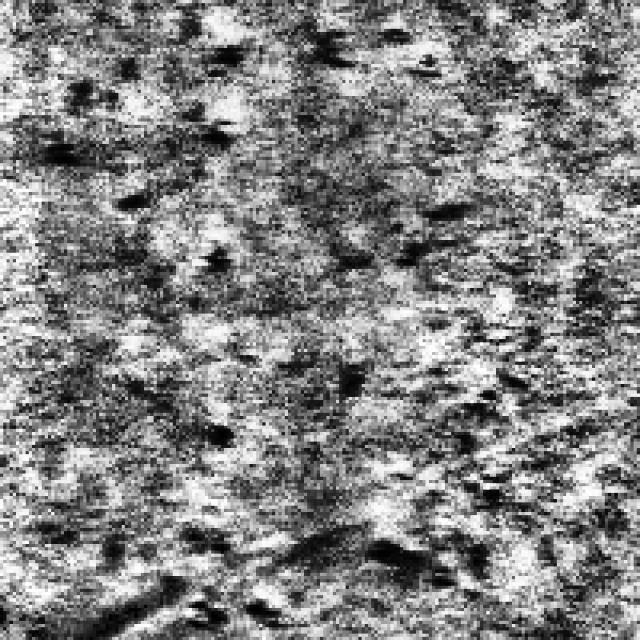Crazing: (323, 188, 534, 612), (54, 480, 276, 627)
